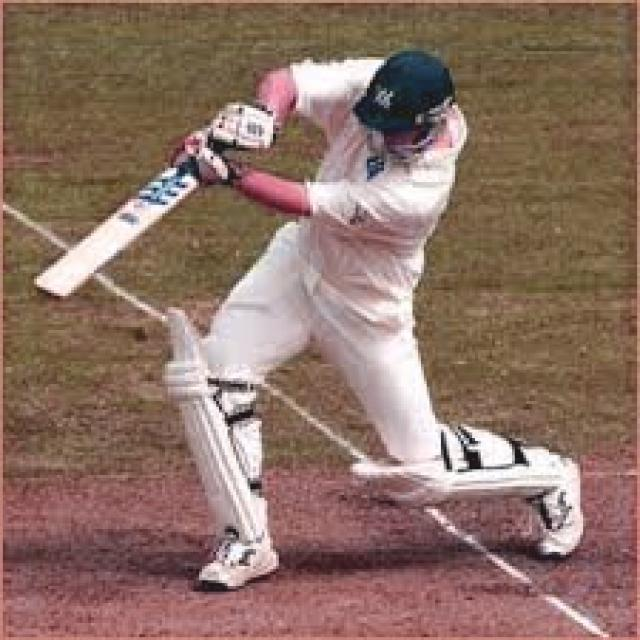bat: (24, 163, 190, 303)
toe: (31, 284, 65, 303)
